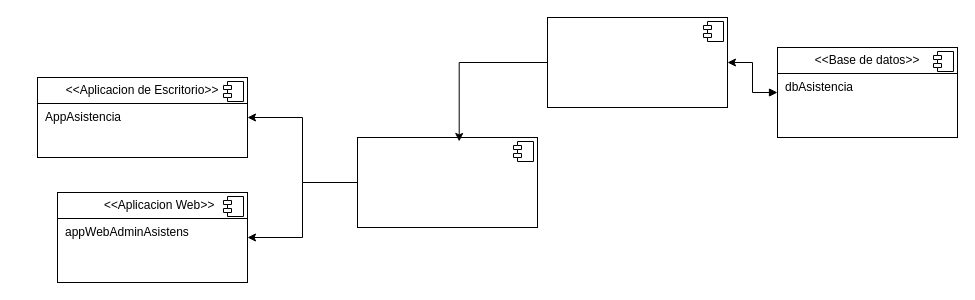
This 975x300 diagram has some shape labels left out. Each missing label, with the centre of its shape:
"<< interface >> API REST" belongs at (x=447, y=182).
"<< Web service >> Web_Services-Asistens" belongs at (x=637, y=62).
